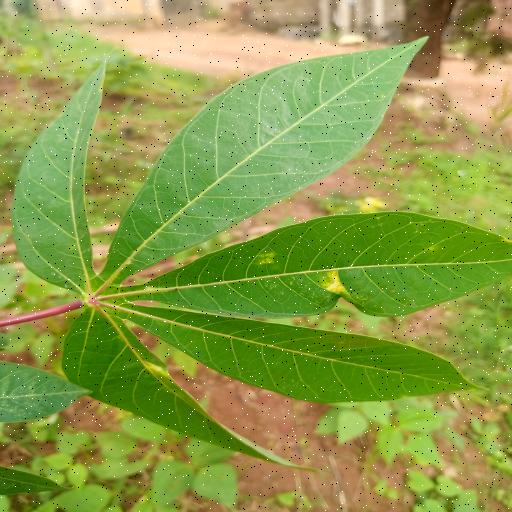Cassava_Mosaic: (9, 48, 512, 468)
